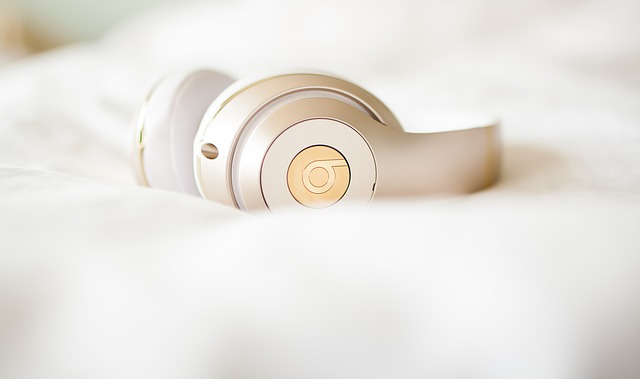headphones: (130, 69, 503, 218)
